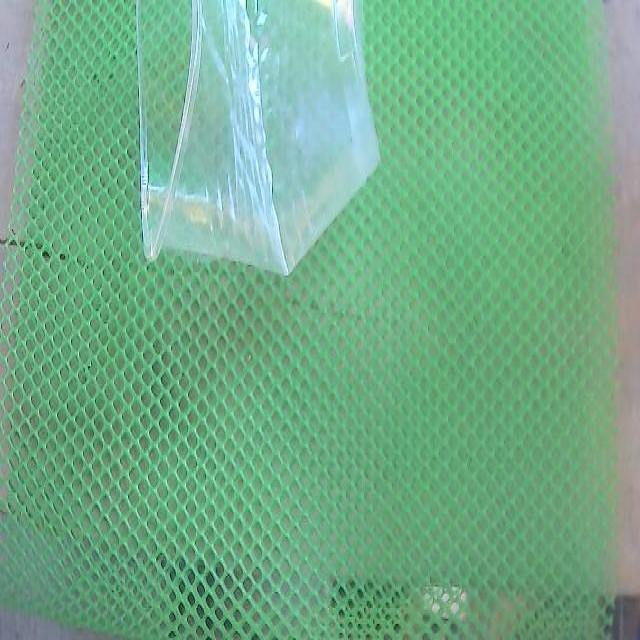bottle: (136, 0, 379, 274)
